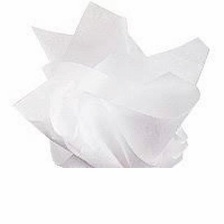tissue: (8, 0, 212, 167)
